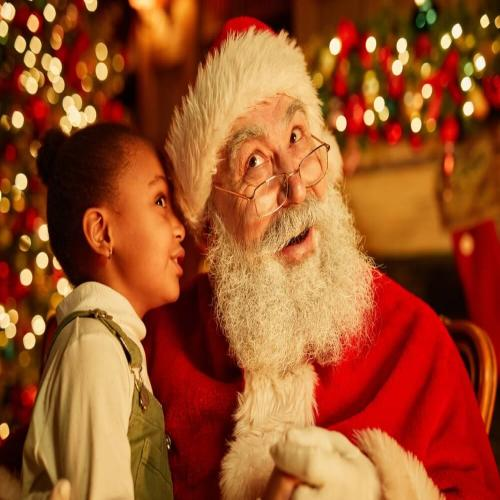Santa: (143, 15, 500, 500)
